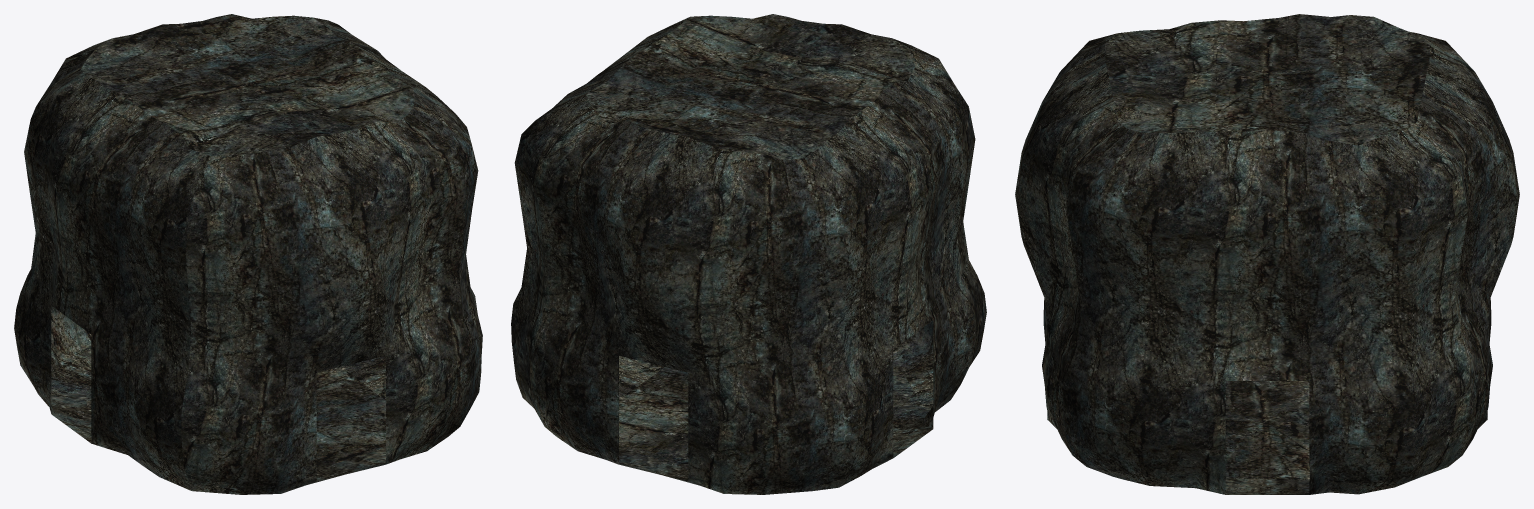
Rendered from 02_06_security_hub_special.dae.
3 renders of one model, left to right at view 1: azimuth 30°, elevation 25°; view 2: azimuth 150°, elevation 25°; view 3: azimuth 270°, elevation 25°, orthographic. The views are drawn at different scales.
Parts seen in each view (by area): view 1: 02_06_security_hub_special; view 2: 02_06_security_hub_special; view 3: 02_06_security_hub_special.
Boxes of the visible parts, box(x1,y1,x2,y2) form: 02_06_security_hub_special: box(14, 14, 482, 494); 02_06_security_hub_special: box(511, 14, 986, 494); 02_06_security_hub_special: box(1015, 14, 1519, 494).
Bounding box in the file's own units: 10.3 × 9.21 × 12.04.
